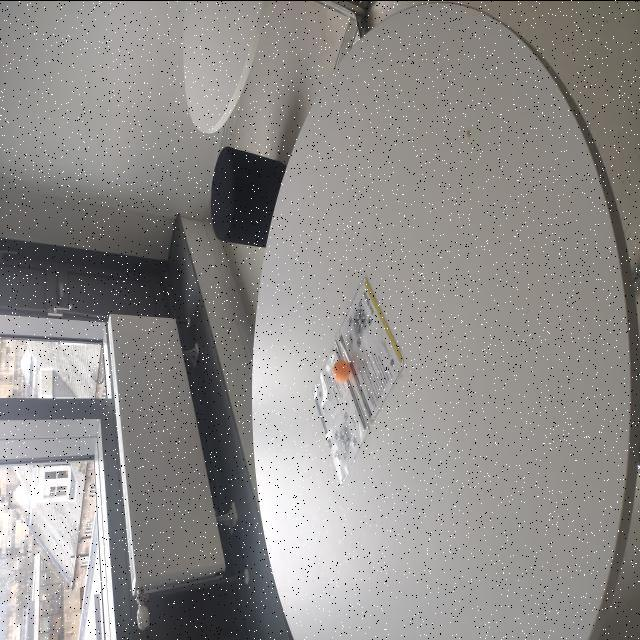ping-pong-ball: (332, 360, 352, 384)
